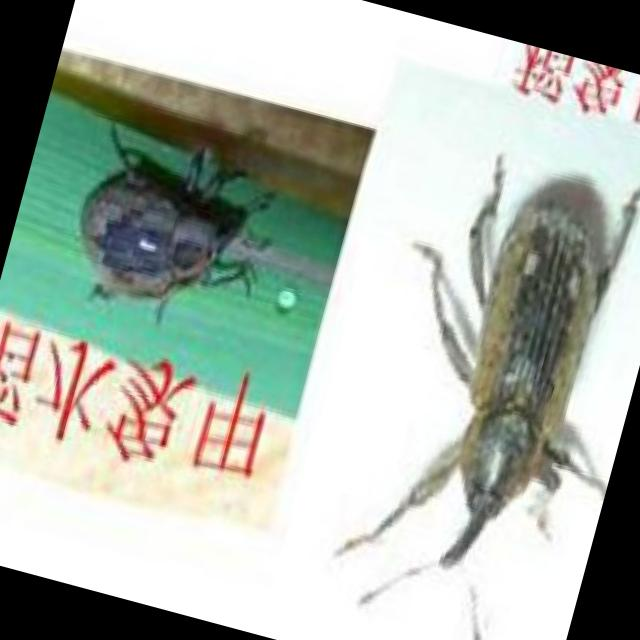rice-bug: (377, 159, 640, 600), (58, 142, 253, 325)
